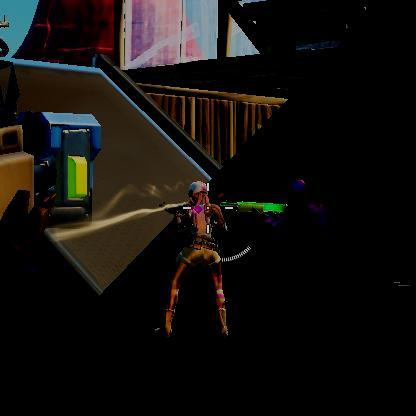person: (270, 179, 352, 338), (182, 184, 239, 330), (187, 181, 227, 235)
